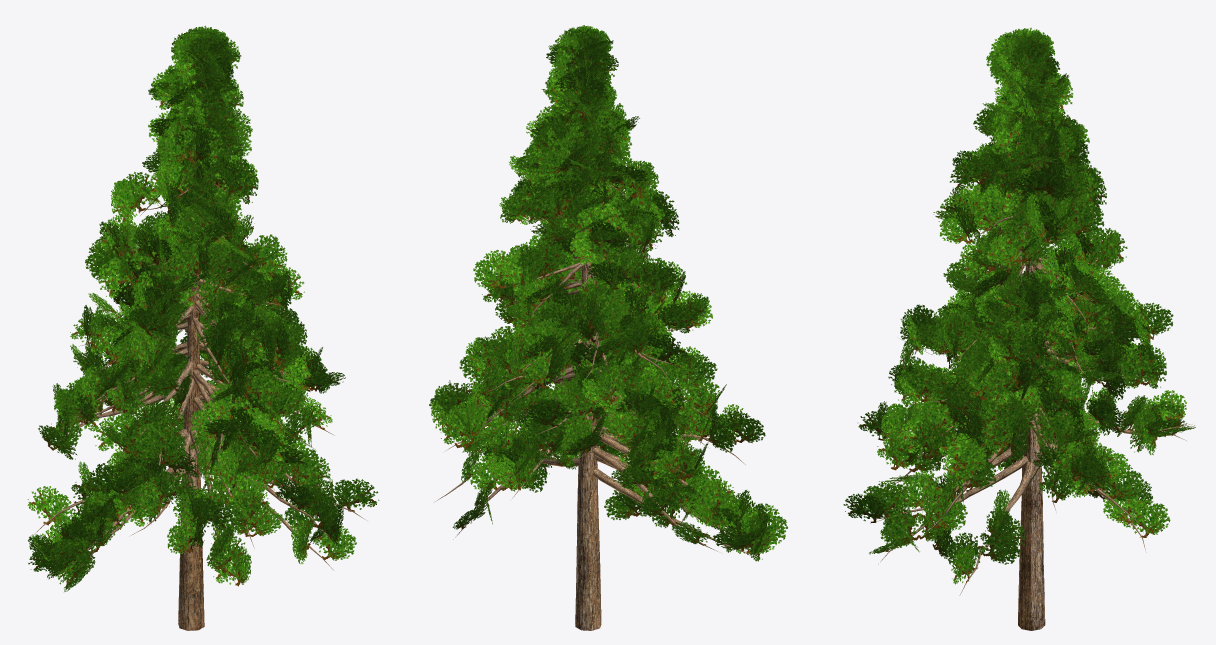
File: pinheiro.glb
3 views of the same model, side by side, from view 1: azimuth 30°, elevation 25°; view 2: azimuth 150°, elevation 25°; view 3: azimuth 270°, elevation 25° (orthographic).
Parts seen in each view (by area): view 1: pinheiro; view 2: pinheiro; view 3: pinheiro.
Boxes of the visible parts, x1=… form: pinheiro: x1=27, y1=25, x2=379, y2=630; pinheiro: x1=429, y1=25, x2=787, y2=630; pinheiro: x1=843, y1=27, x2=1195, y2=630.
Bounding box in the file's own units: 7.27 × 12.57 × 6.9.
Materials: 2 (2 with a texture image).
